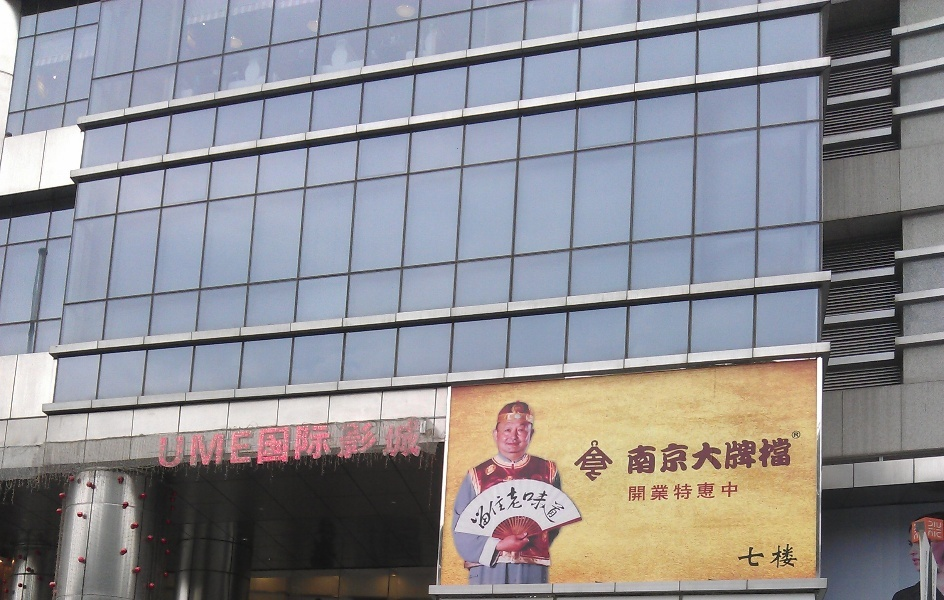text: (161, 416, 176, 470), (177, 416, 192, 470), (193, 416, 208, 470), (209, 416, 224, 470), (225, 416, 240, 470), (241, 416, 256, 470), (257, 416, 272, 470), (273, 416, 288, 470), (289, 416, 304, 470), (305, 416, 320, 470), (321, 416, 336, 470), (337, 416, 352, 470), (353, 416, 368, 470), (369, 416, 384, 470), (385, 416, 400, 470), (401, 416, 416, 470), (481, 483, 496, 530), (497, 483, 512, 530), (513, 483, 528, 530), (529, 483, 544, 530), (545, 483, 560, 530), (467, 483, 480, 530), (641, 436, 656, 475), (657, 436, 672, 475), (673, 436, 688, 475), (689, 436, 704, 475), (705, 436, 720, 475), (721, 436, 736, 475), (737, 436, 752, 475), (753, 436, 768, 475), (769, 436, 784, 475), (626, 436, 640, 475), (417, 416, 424, 470), (753, 544, 768, 568), (769, 544, 784, 568), (785, 544, 799, 568), (641, 481, 656, 503), (657, 481, 672, 503), (673, 481, 688, 503), (689, 481, 704, 503), (705, 481, 720, 503), (721, 481, 736, 503), (561, 483, 568, 530), (785, 436, 793, 475), (739, 544, 752, 568), (628, 481, 640, 503), (157, 416, 160, 470), (794, 433, 800, 437), (737, 481, 738, 503)
